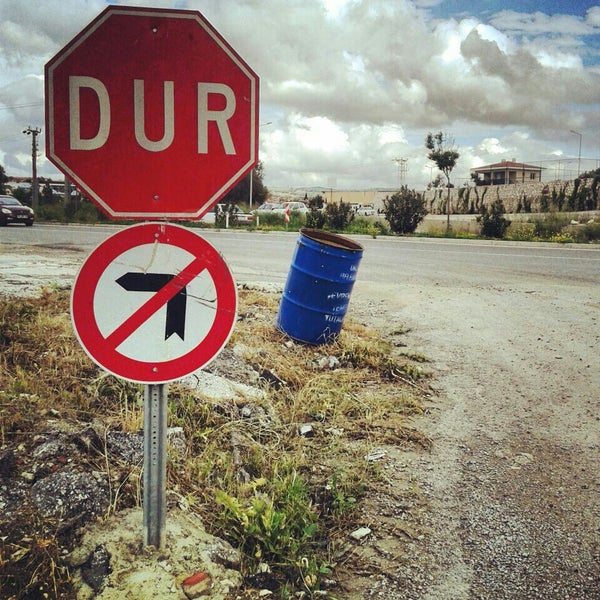dur: (44, 6, 272, 222)
sola_girilmez: (63, 223, 243, 397)
yaya: (259, 222, 381, 363)
